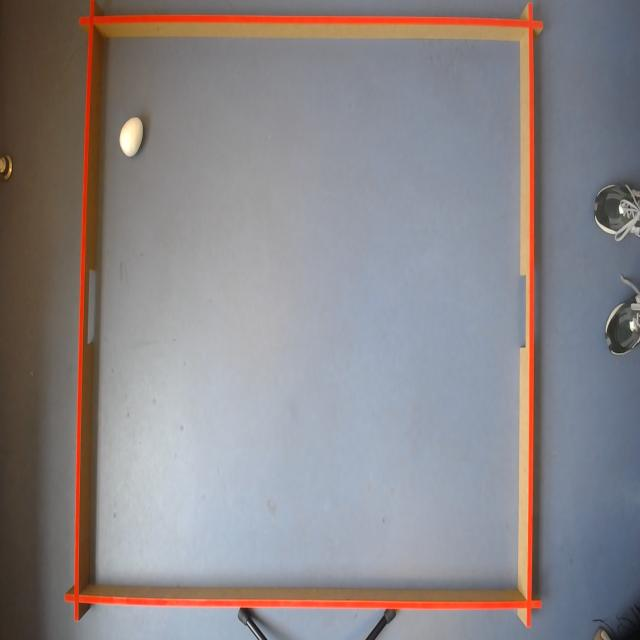egg: (118, 114, 146, 160)
